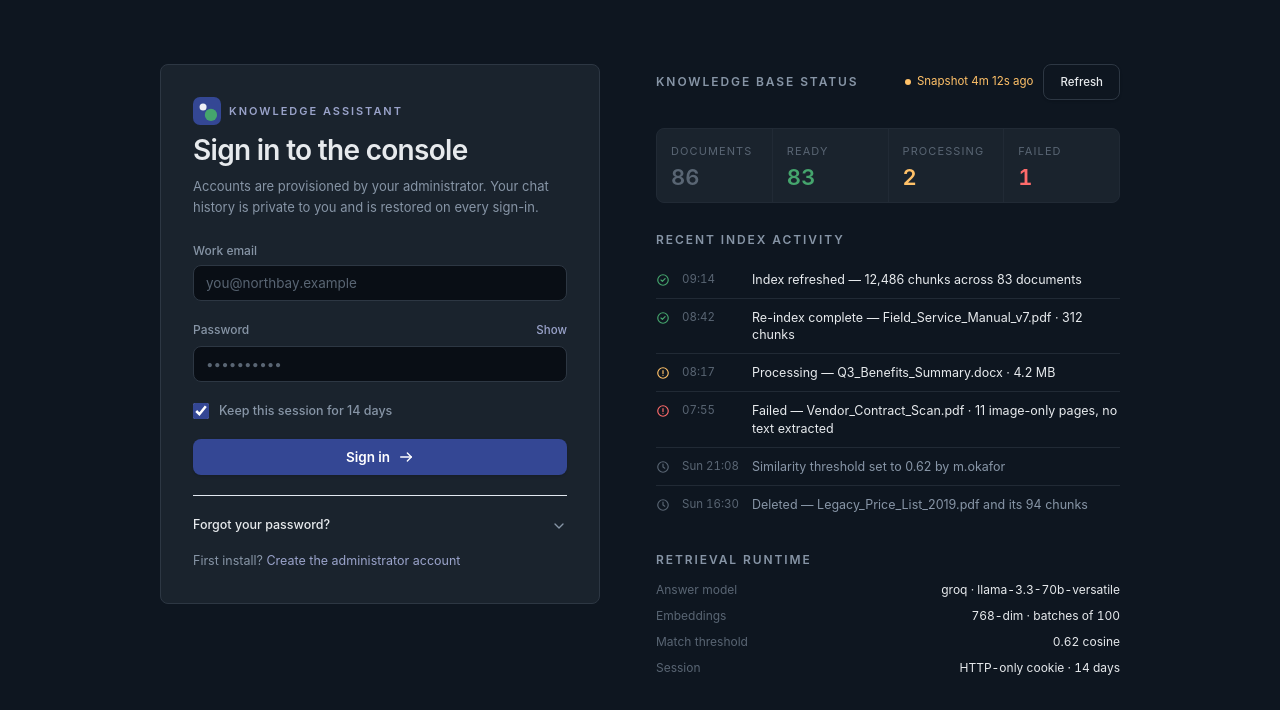
SignIn › AC-009/AC-010: bootstrap posts to POST /users and a 409 shows the admin-already-exists panel
The width and height of the screenshot is (1280, 710).
Click the button "First install? Create the administrator account" at (327, 562), box [193, 552, 460, 571]
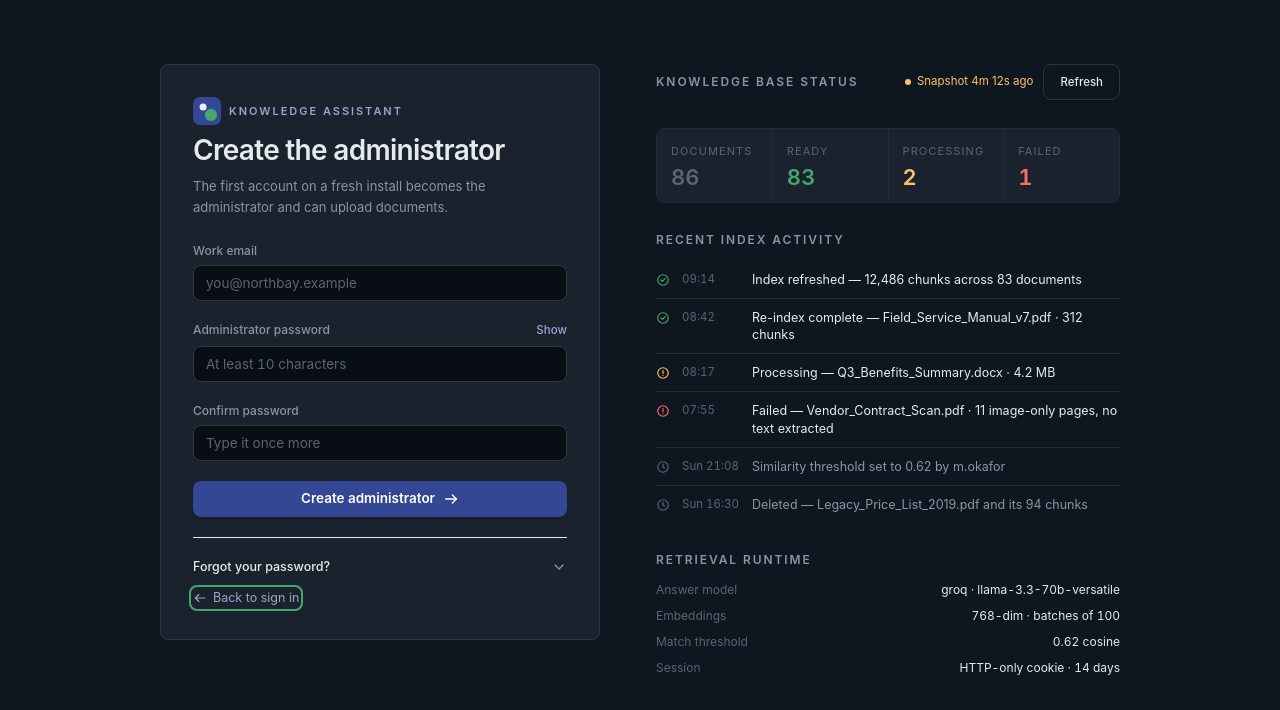
Type "admin@b.com" into the field labelled "Work email" at (380, 283), box [193, 265, 567, 301]
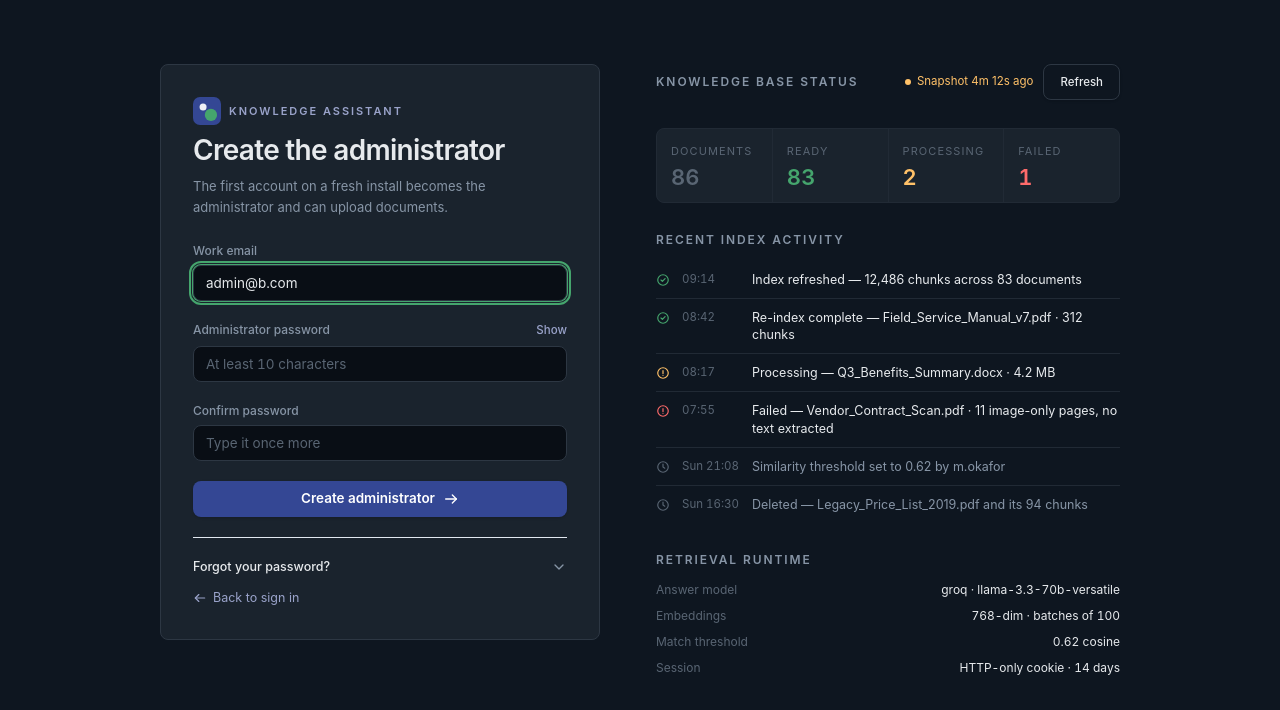
Type "longenoughpassword" into the password field labelled "Administrator password" at (380, 364), box [193, 346, 567, 382]
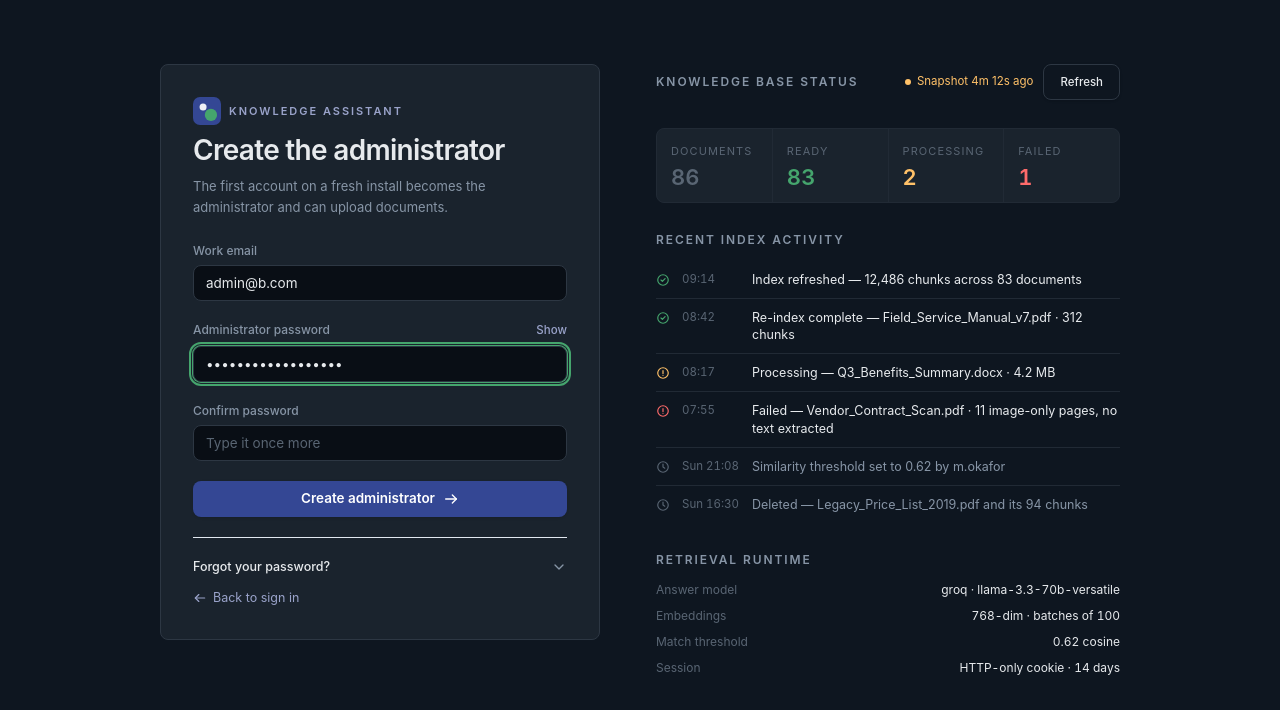
Type "longenoughpassword" into the password field labelled "Confirm password" at (380, 443), box [193, 425, 567, 461]
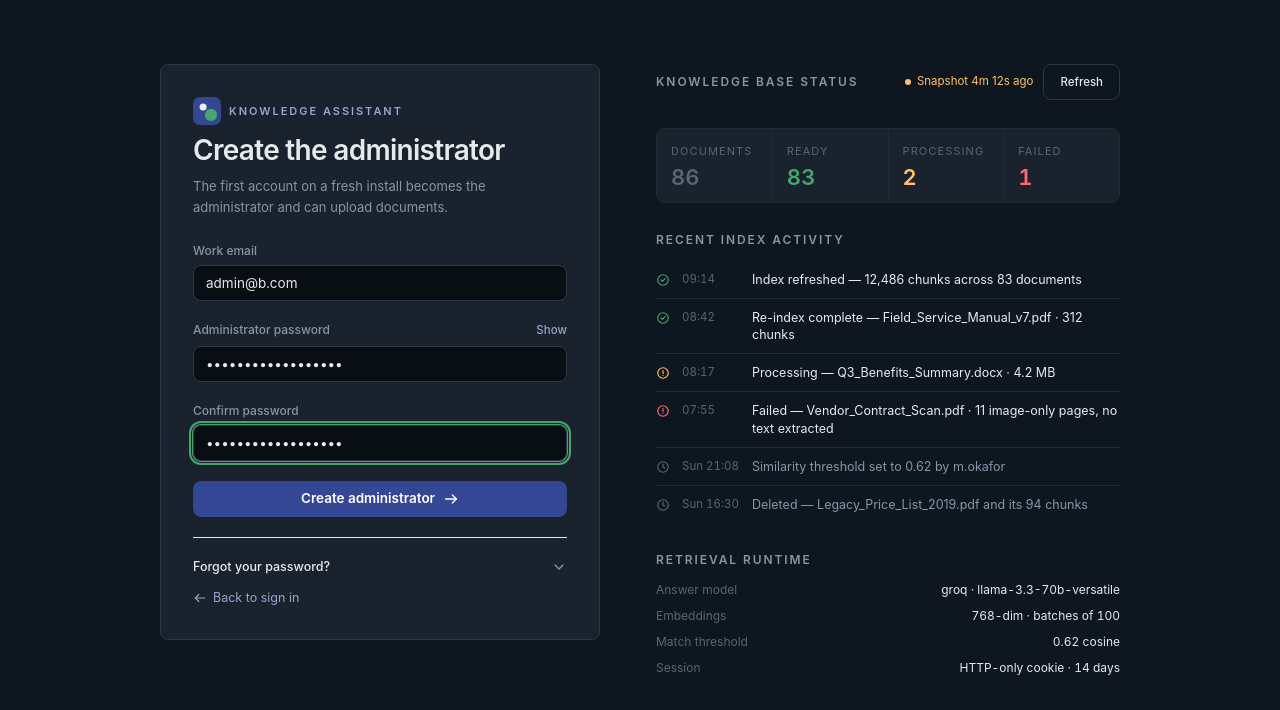
Click the button "Create administrator" at (380, 499), box [193, 481, 567, 517]
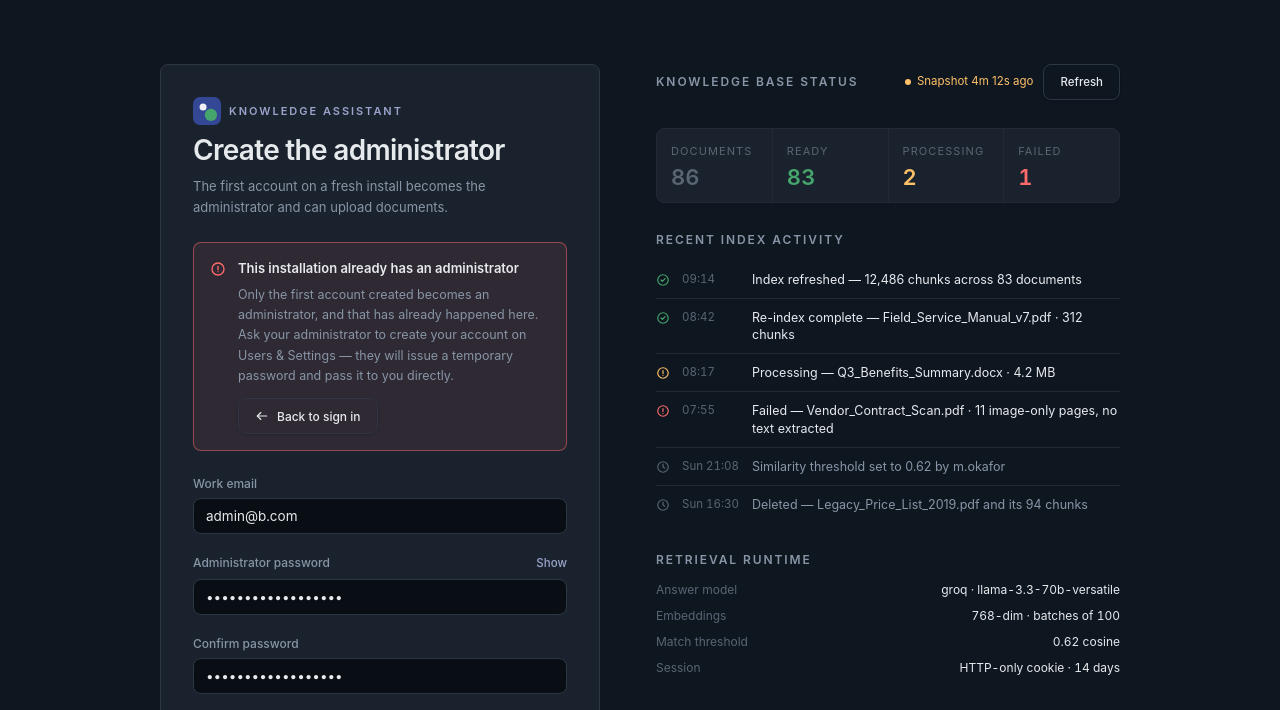
Now the heading "This installation already has an administrator" is shown, box [238, 259, 550, 279]
